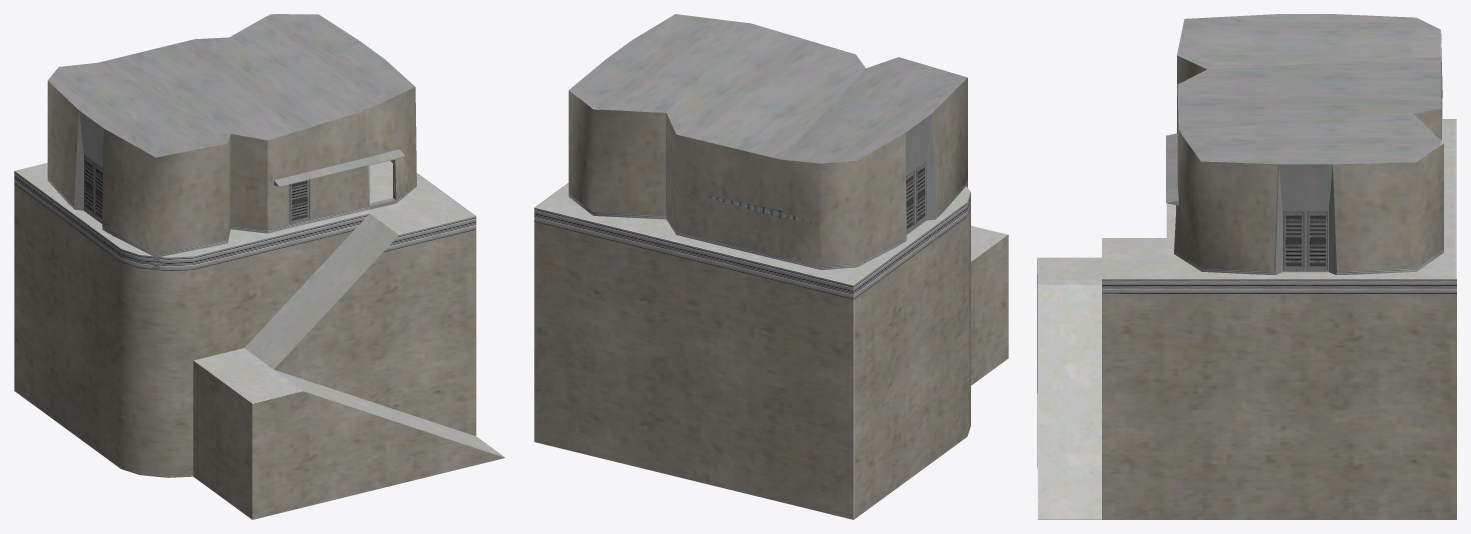
File: ply_all_house_m_s01_fp1_r0_exterior_mesh_l2.fbx
3 views of the same model, side by side, from view 1: azimuth 30°, elevation 25°; view 2: azimuth 150°, elevation 25°; view 3: azimuth 270°, elevation 25° (orthographic). The views are drawn at different scales.
Parts seen in each view (by area): view 1: mesh_node; view 2: mesh_node; view 3: mesh_node.
Boxes of the visible parts, box(x1,y1,x2,y2) form: mesh_node: box(14, 14, 505, 519); mesh_node: box(534, 14, 1008, 519); mesh_node: box(1037, 14, 1456, 519).
Size of the model in its own units: 23.53 by 24 by 26.07.
